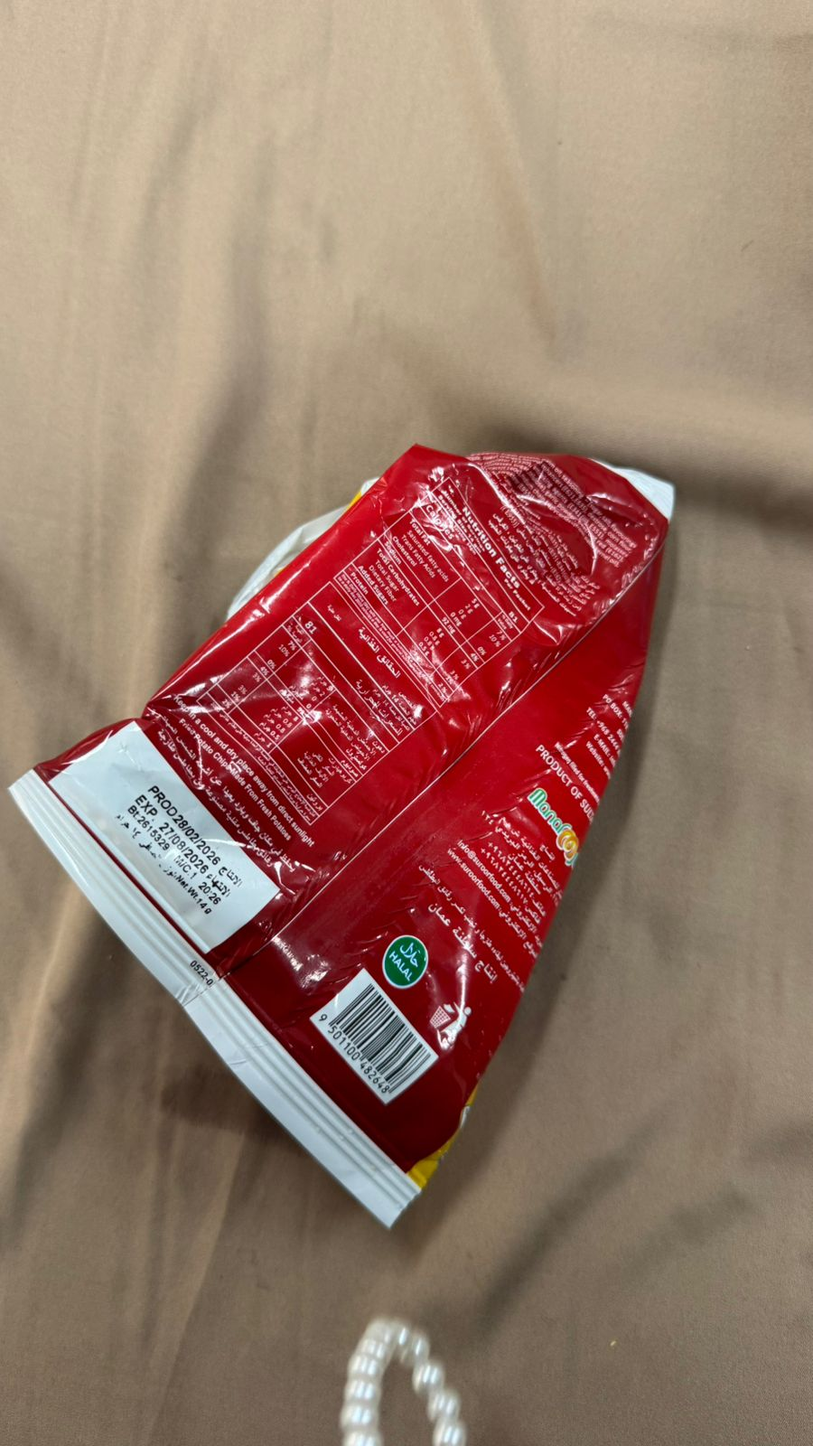plastic: (81, 255, 732, 1412)
